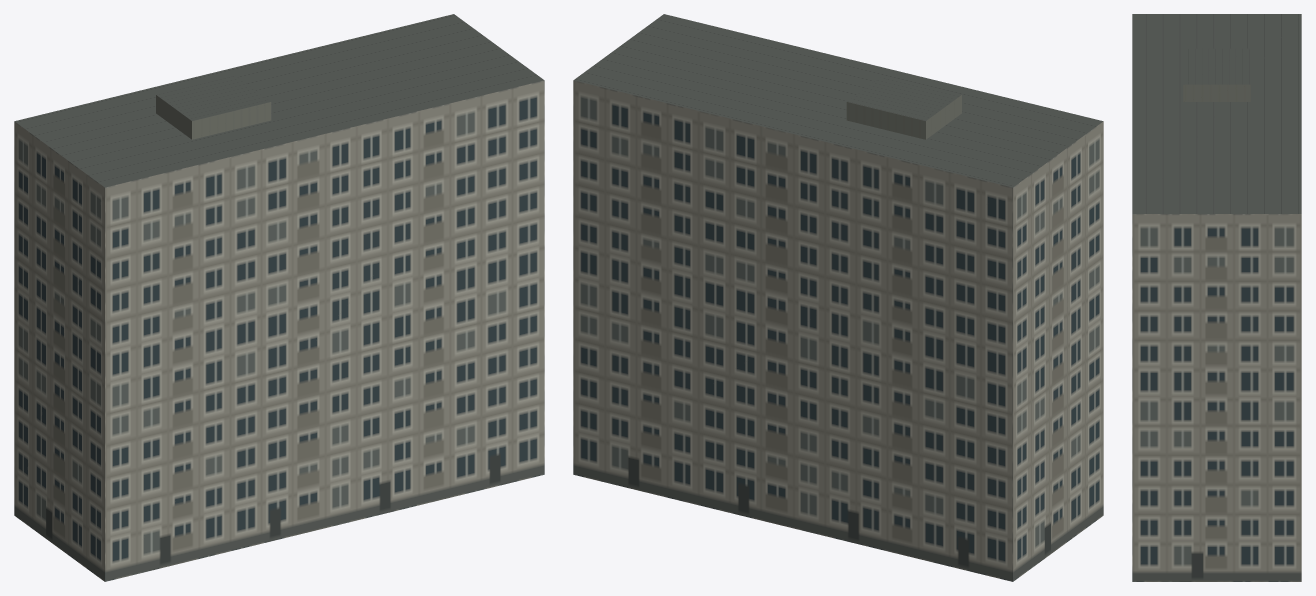
Rendered from kyiv_panel_12_01.obj.
3 views of the same model, side by side, from view 1: azimuth 30°, elevation 25°; view 2: azimuth 150°, elevation 25°; view 3: azimuth 270°, elevation 25° (orthographic). The views are drawn at different scales.
Parts seen in each view (by area): view 1: kyiv_panel_12_01; view 2: kyiv_panel_12_01; view 3: kyiv_panel_12_01.
Part boxes in pixels (x1,y1,x2,y2): kyiv_panel_12_01: (14, 14, 544, 581); kyiv_panel_12_01: (573, 14, 1103, 581); kyiv_panel_12_01: (1132, 14, 1301, 581).
Size of the model in its own units: 42 by 37.7 by 15.
1 material, 1 textured.
